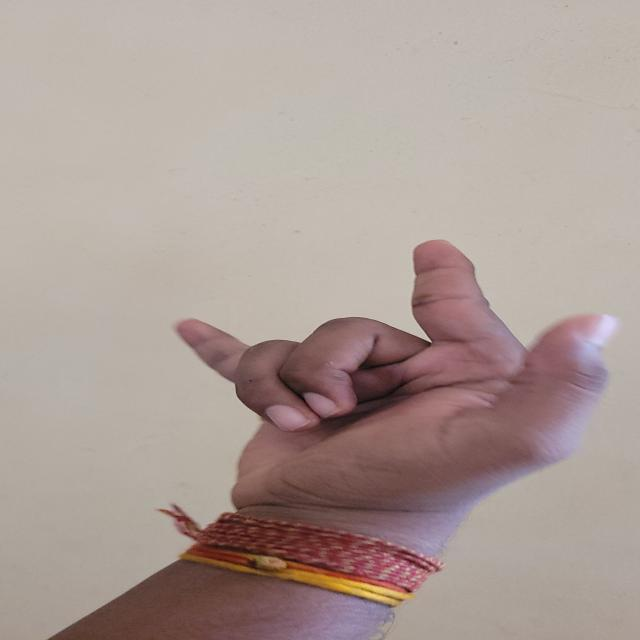i like you: (174, 243, 629, 507)
